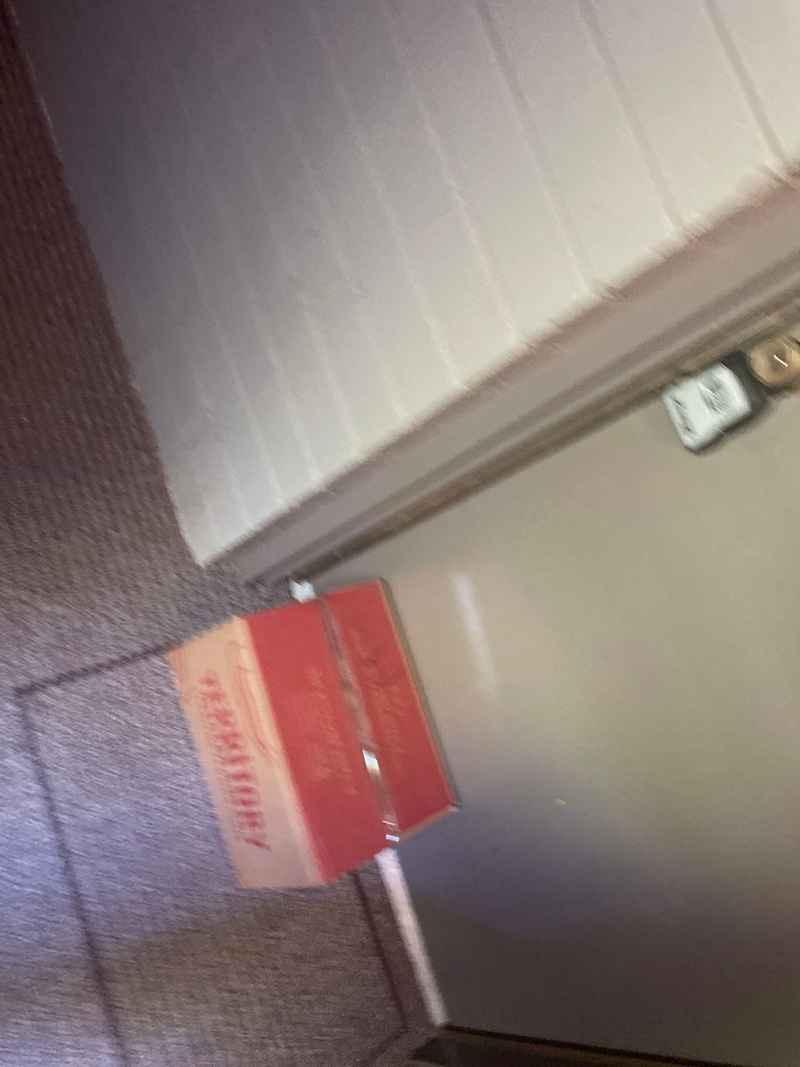package: (166, 575, 463, 897)
